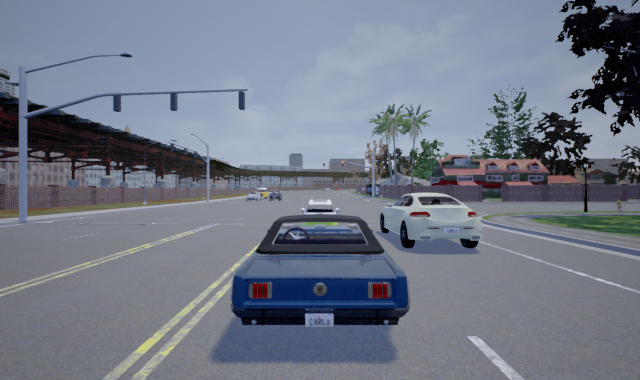pedestrian: (612, 197, 627, 214)
vehicle: (231, 214, 409, 325), (377, 191, 482, 249), (297, 198, 342, 241)
